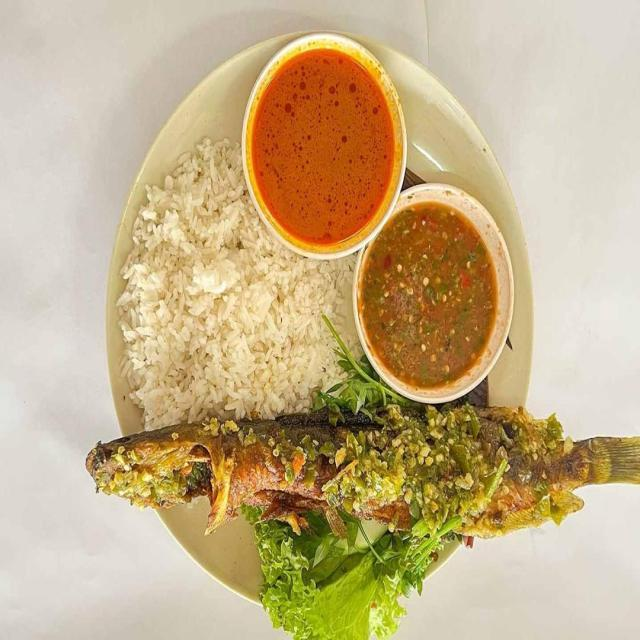Fish: (85, 404, 634, 535)
Plate: (350, 35, 532, 405)
Rice: (120, 136, 349, 429)
Vegetables: (243, 510, 439, 636), (323, 314, 404, 404)
